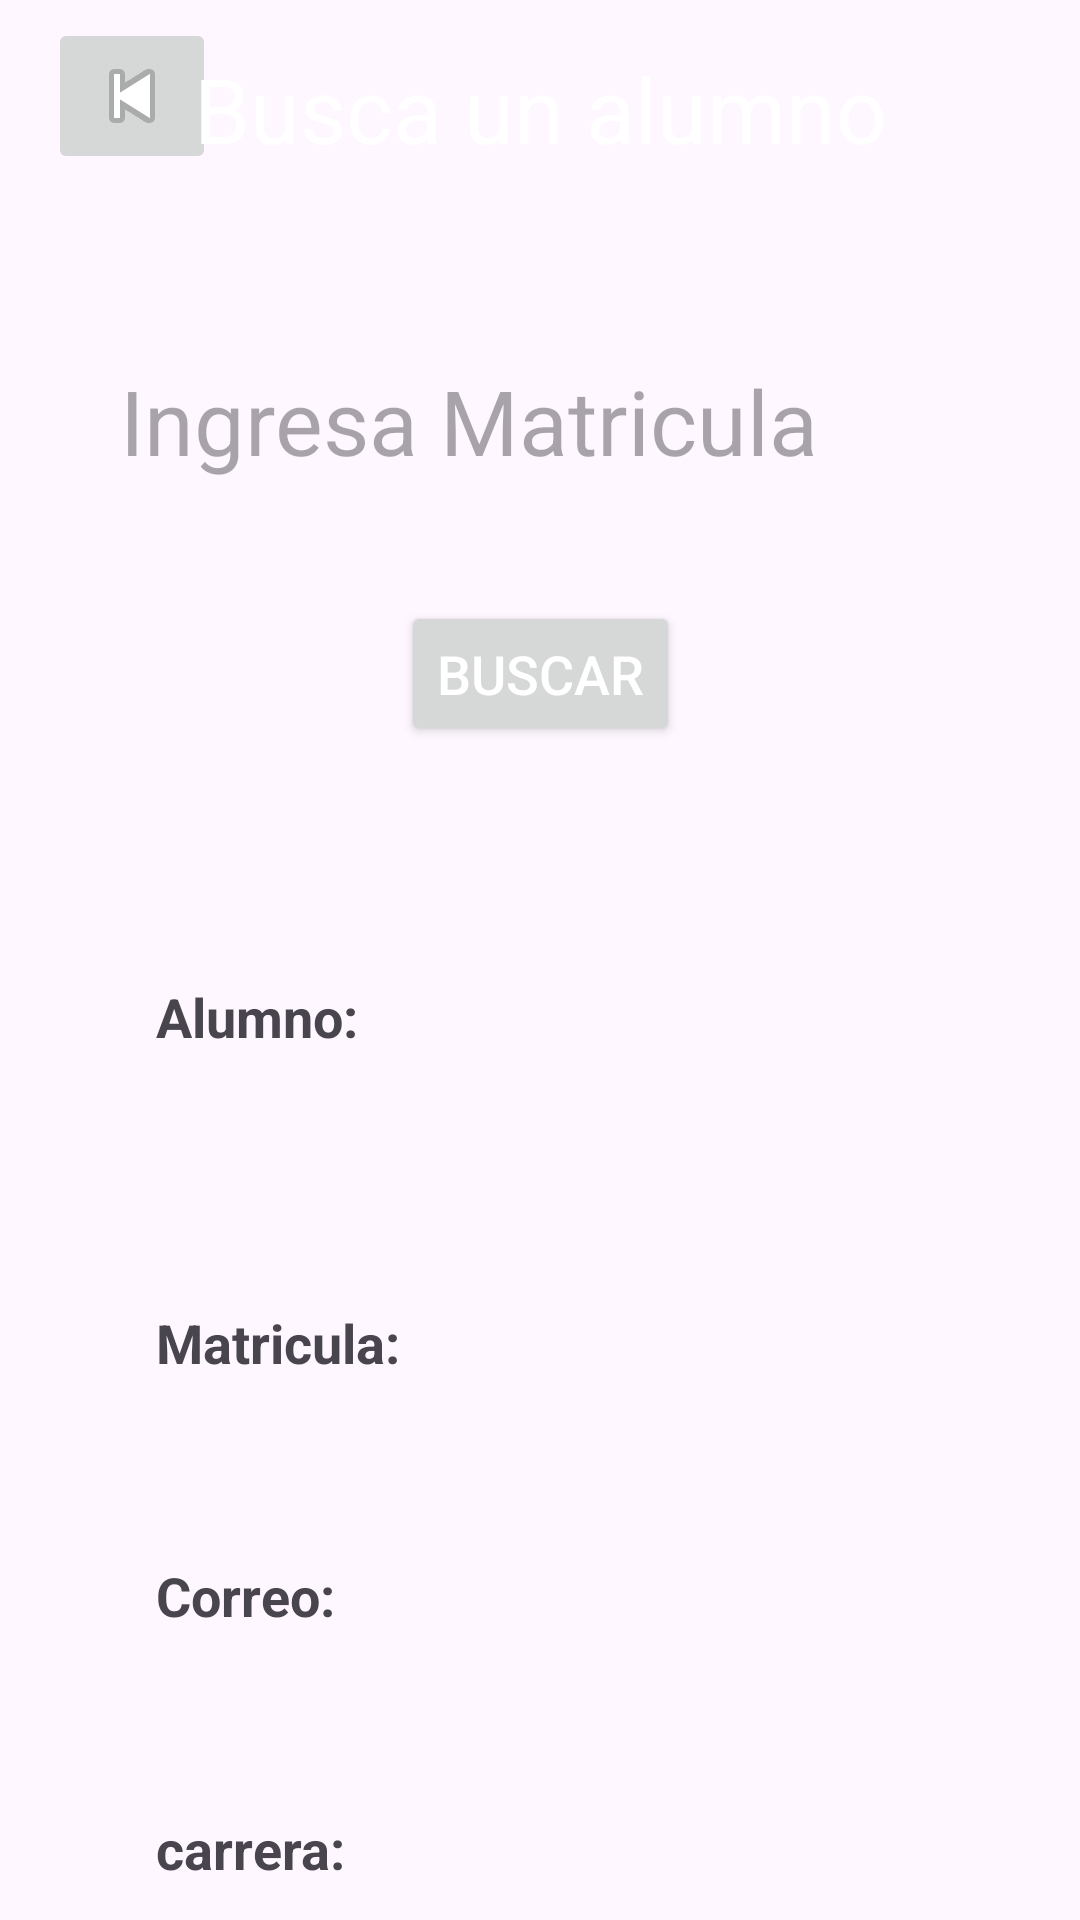

Locate icon controls on the screen. Image size 1080 × 1920, boxes as [x1=x1, y1=y1, x2=x2, y2=y2].
previous: [x1=60, y1=36, x2=204, y2=156]
